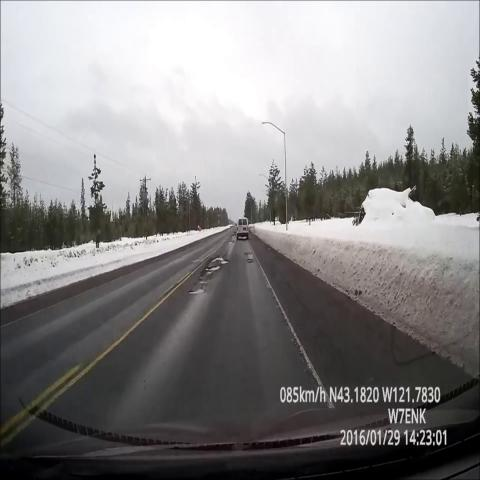pothole: (183, 251, 236, 308), (221, 230, 241, 253), (240, 246, 258, 270)
